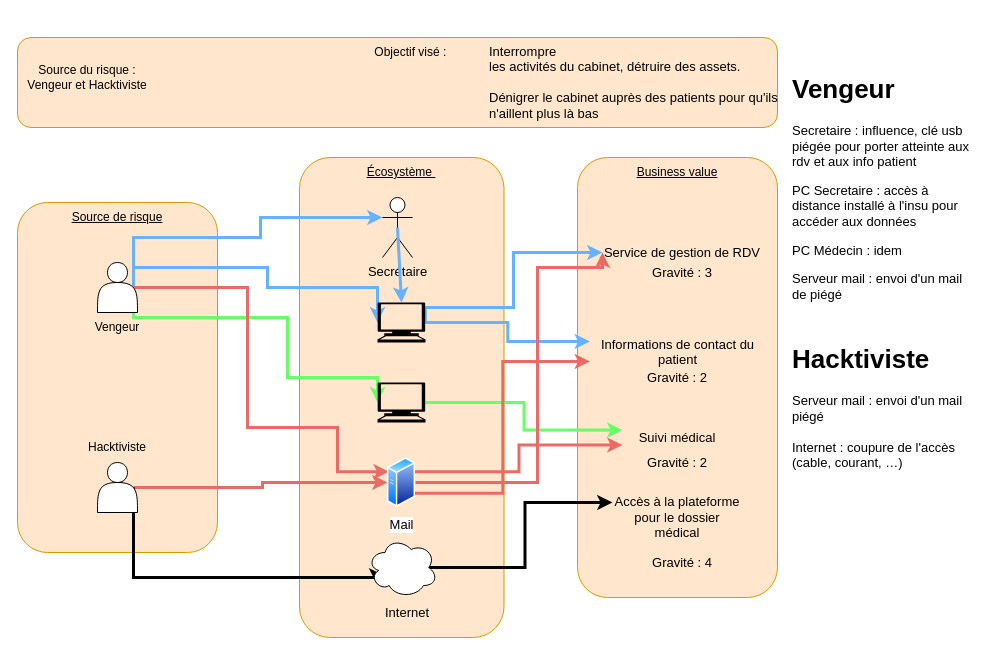
Image size: 995x655. Some labels were removed from this diagram. Here are the shapes that lost their labels. From the top down, the centre of each, then its label:
the point at 401,322: PC secrétaire
the point at 401,402: PC médecin
